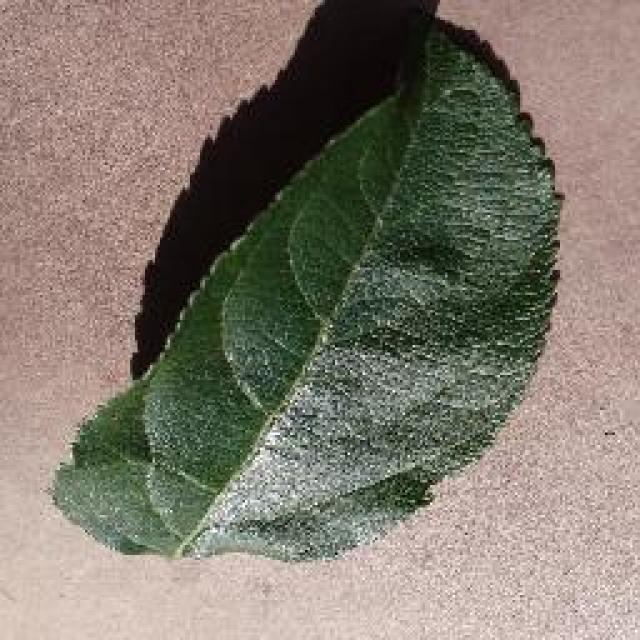apple healthy: (47, 0, 565, 565)
